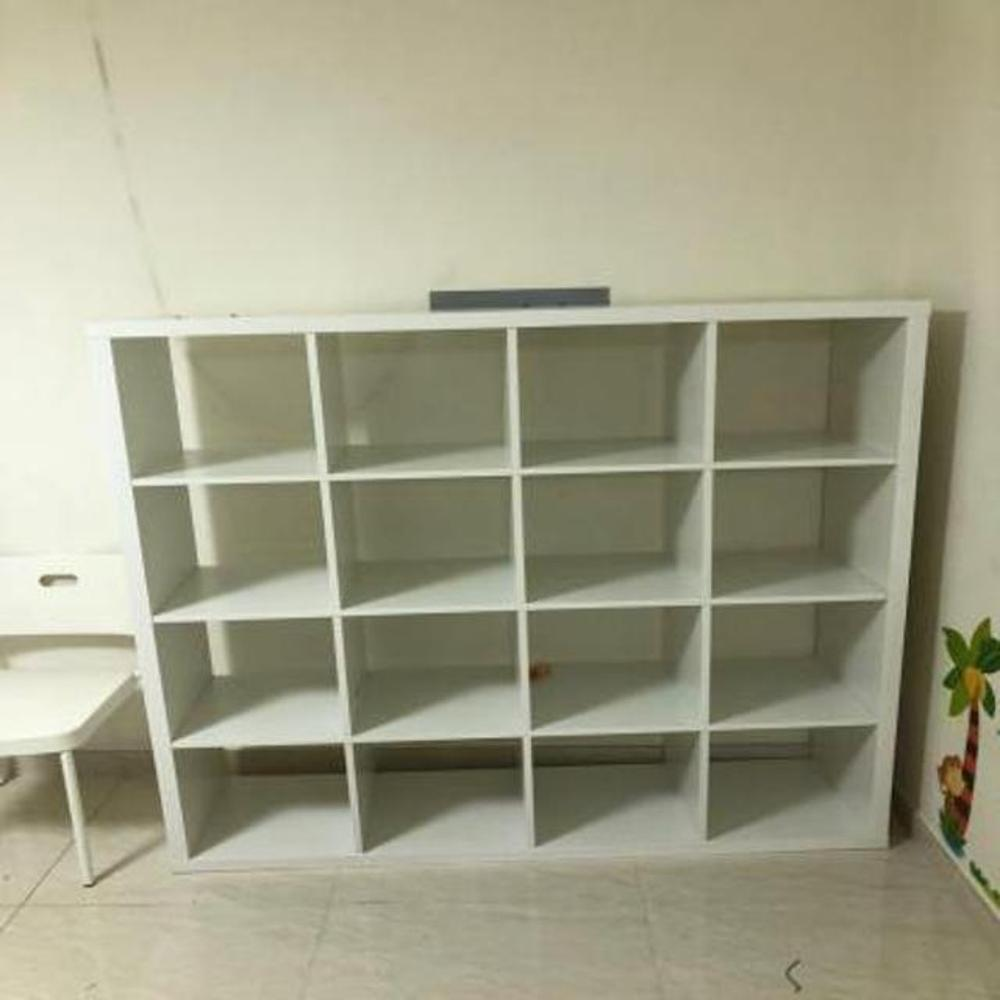lamp: (79, 299, 935, 882)
